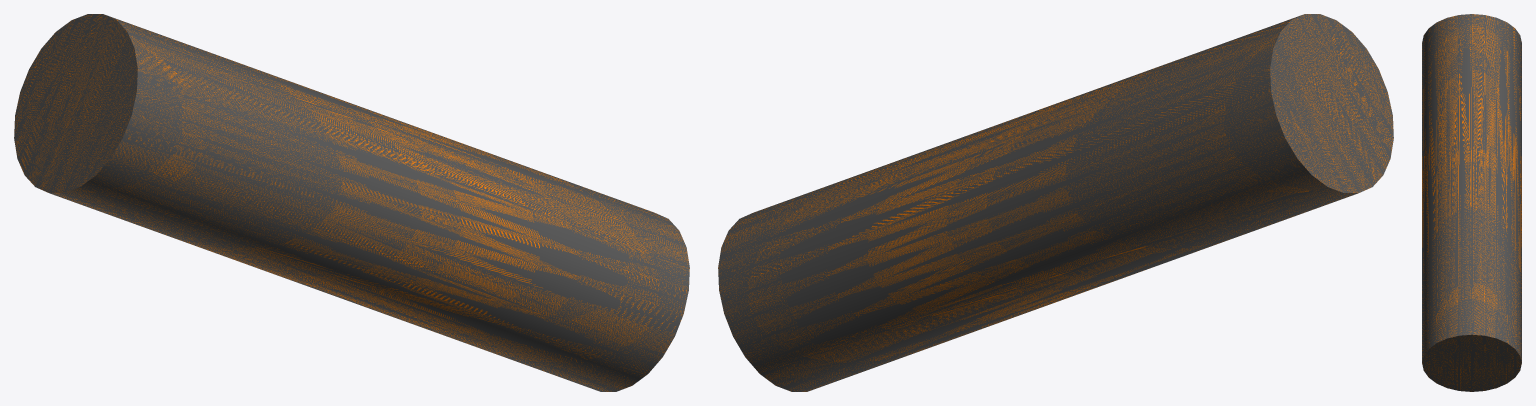
Rendered from original-25.obj.
3 renders of one model, left to right at view 1: azimuth 30°, elevation 25°; view 2: azimuth 150°, elevation 25°; view 3: azimuth 270°, elevation 25°, orthographic. The views are drawn at different scales.
Visible parts, largest first — view 1: group_11/ID198#ID198; view 2: group_11/ID198#ID198; view 3: group_11/ID198#ID198.
Part boxes in pixels (box(x1,y1,x2,y2)): group_11/ID198#ID198: box(14, 14, 689, 391); group_11/ID198#ID198: box(718, 14, 1393, 391); group_11/ID198#ID198: box(1422, 14, 1521, 391).
Size of the model in its own units: 0.0706 by 0.0512 by 0.0181.
